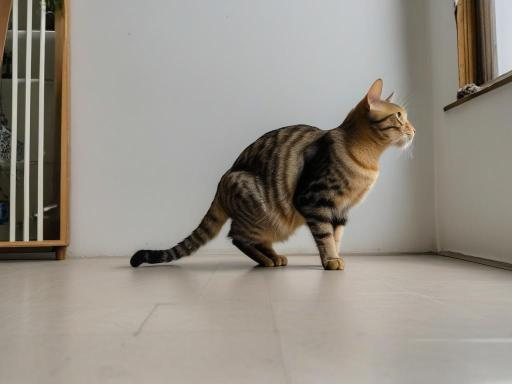cat_standing: (130, 78, 415, 270)
